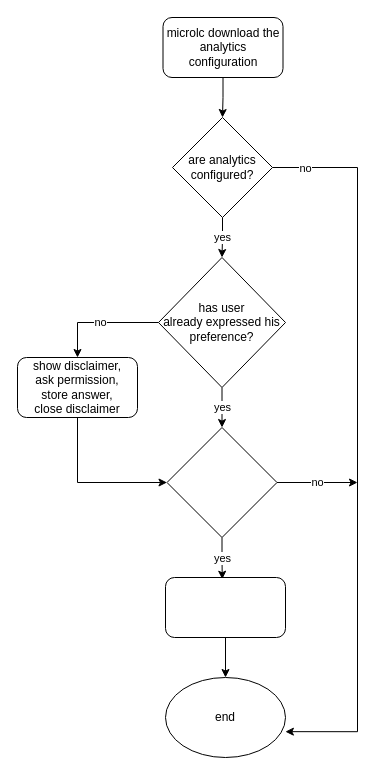
Some shapes in this 383 by 775 pixel diagram are drawn without their labels. The box of each missing label's shape, as (x1, y1, x2, y2) in pixels:
create analytics container: (164, 576, 286, 638)
did he accepted?: (166, 426, 277, 538)
